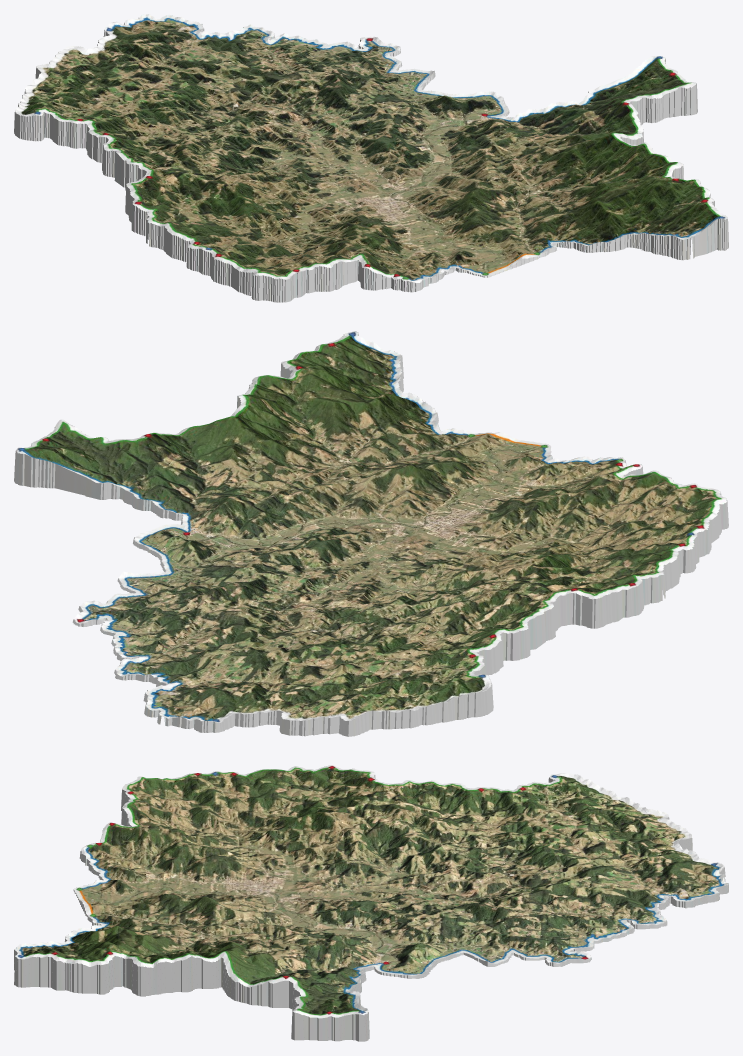
3 renders of one model, top to bottom at view 1: azimuth 30°, elevation 25°; view 2: azimuth 150°, elevation 25°; view 3: azimuth 270°, elevation 25°, orthographic. The views are drawn at different scales.
Size of the model in its own units: 1 by 0.0639 by 1.19.
Materials: 1 (1 with a texture image).
